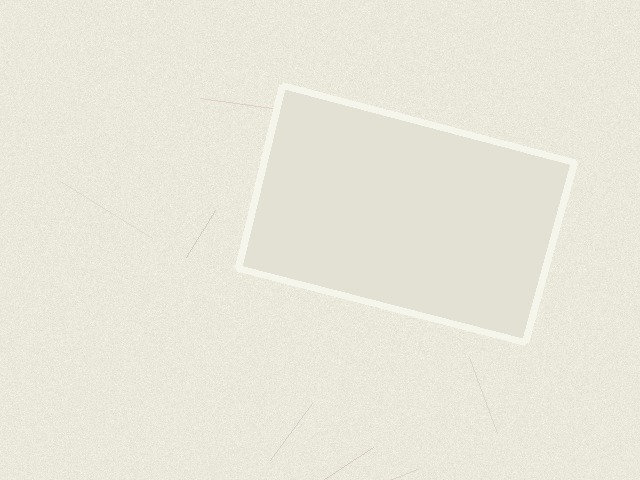parking_area: (238, 85, 574, 342)
